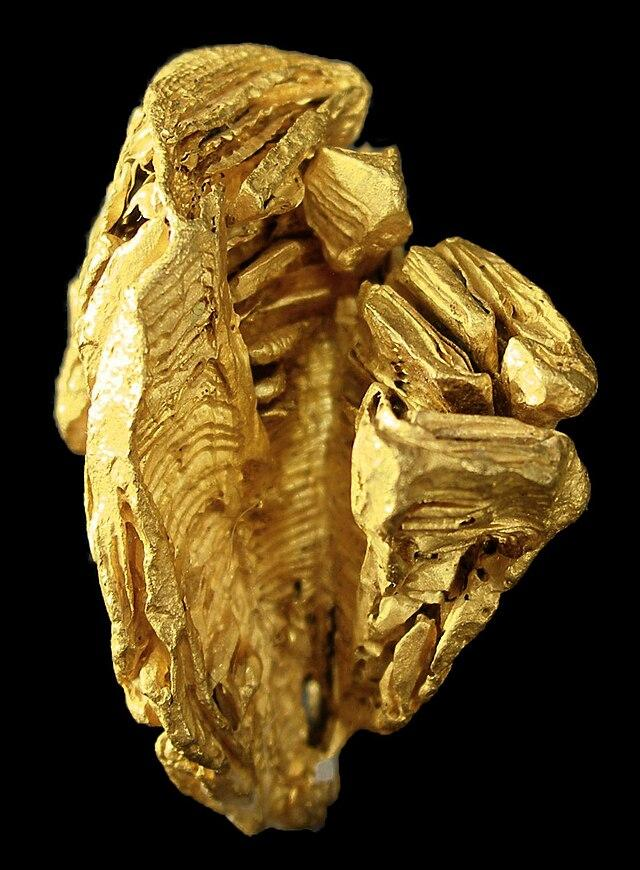gold: (40, 46, 599, 853)
